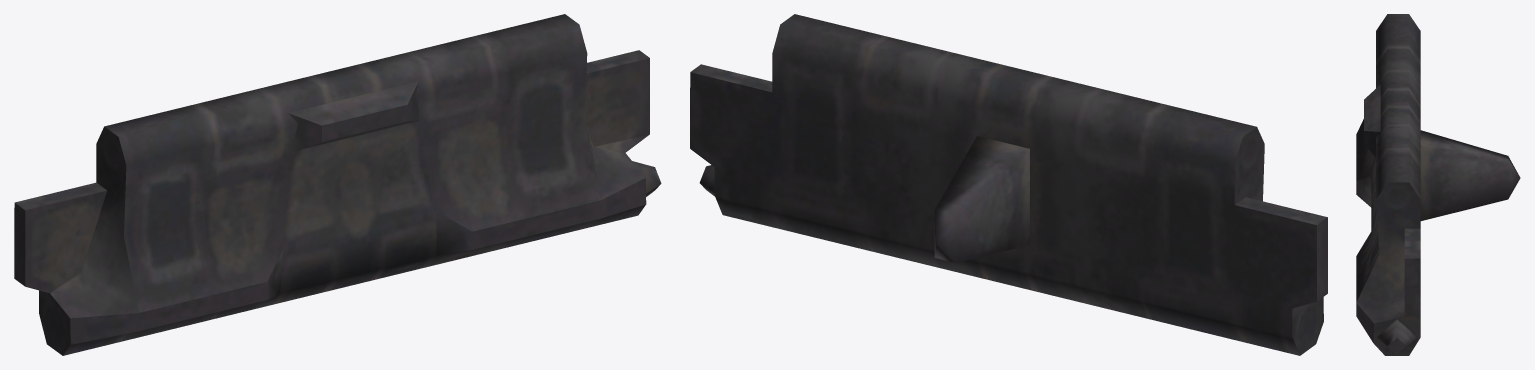
The model's file is WZ_11_track.glb.
3 renders of one model, left to right at view 1: azimuth 30°, elevation 25°; view 2: azimuth 150°, elevation 25°; view 3: azimuth 270°, elevation 25°, orthographic. The views are drawn at different scales.
Visible parts, largest first — view 1: set_0_group_0; view 2: set_0_group_0; view 3: set_0_group_0.
Boxes of the visible parts, bbox=[...] form: set_0_group_0: bbox=[14, 14, 661, 355]; set_0_group_0: bbox=[690, 14, 1327, 355]; set_0_group_0: bbox=[1356, 14, 1520, 355].
Bounding box in the file's own units: 0.66 × 0.2058 × 0.2007.
1 material, 1 textured.
